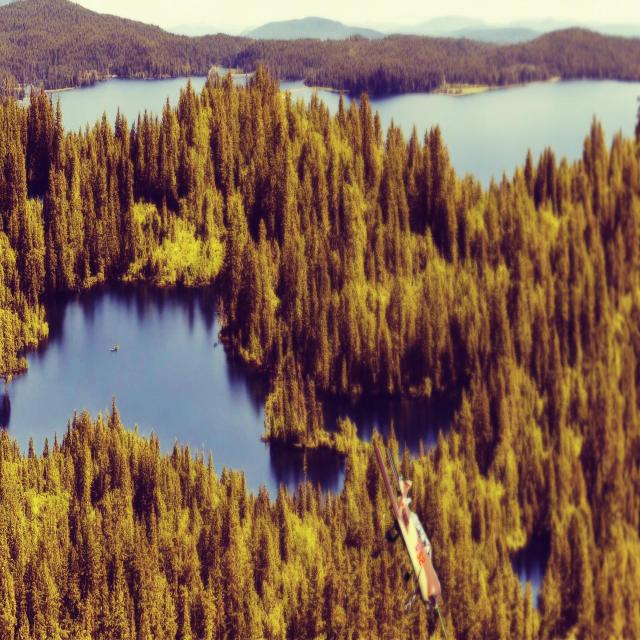airplane: (374, 444, 442, 614)
